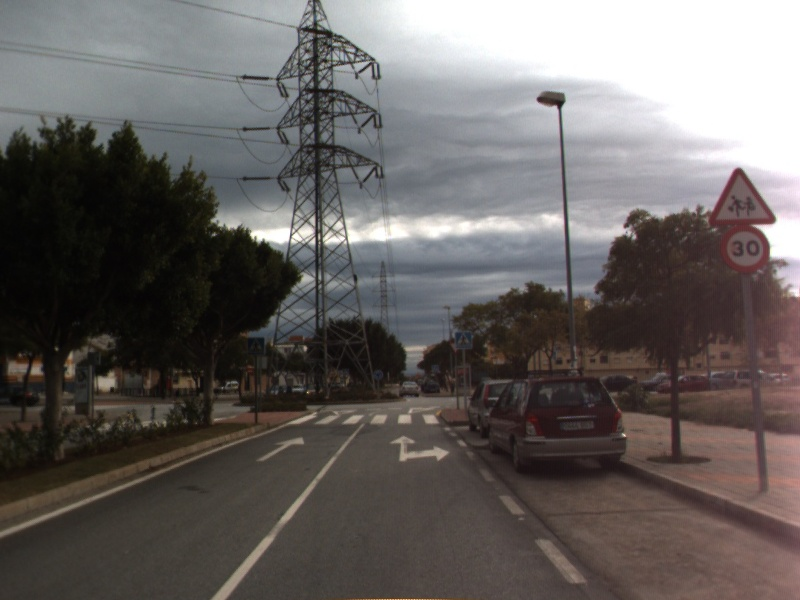STRAIGHT: (253, 435, 306, 463)
STRAIGHT_RIGHT: (387, 433, 452, 463)
